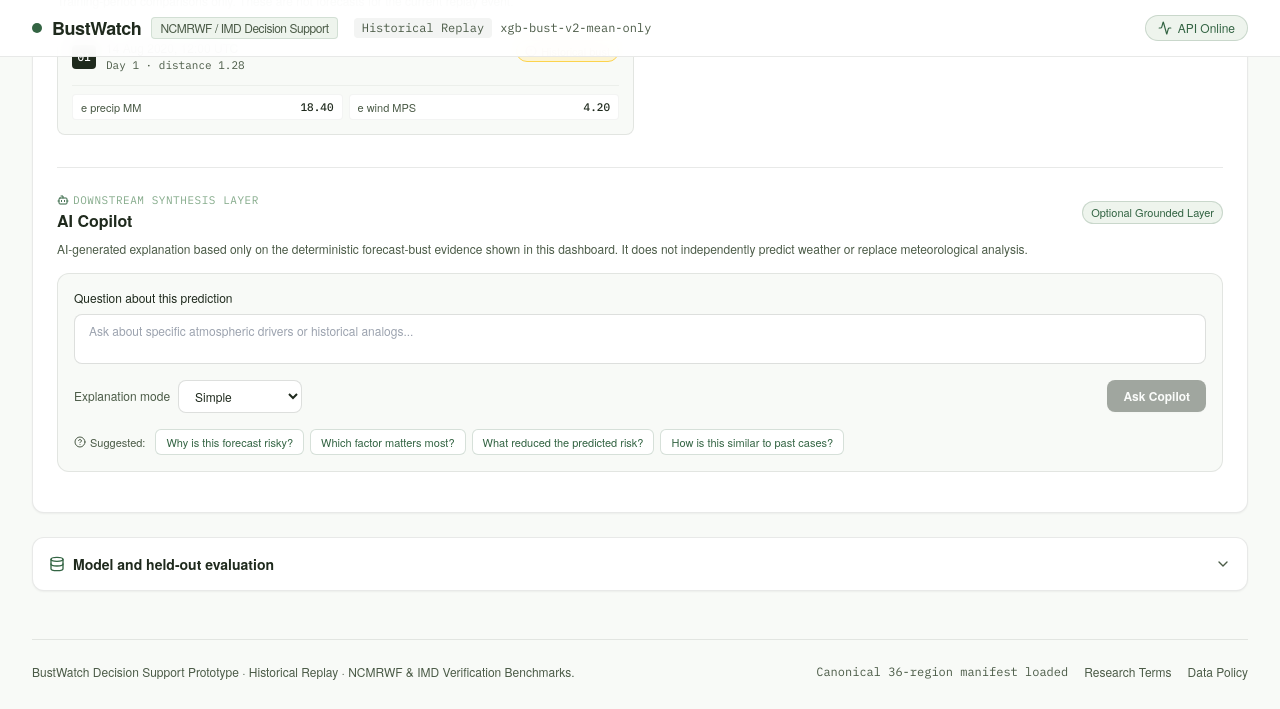
forecast dashboard › renders the full historical-replay evidence flow from canonical API contracts
The width and height of the screenshot is (1280, 709).
(page scrolled)
Check: the text "Historical Replay" is shown, box x1=354 y1=18 x2=492 y2=38
Check: the text "Historical bust" is shown, box x1=516 y1=40 x2=619 y2=62
Click the button "Model and held-out evaluation".
click(173, 564)  # box x1=33 y1=538 x2=1247 y2=590
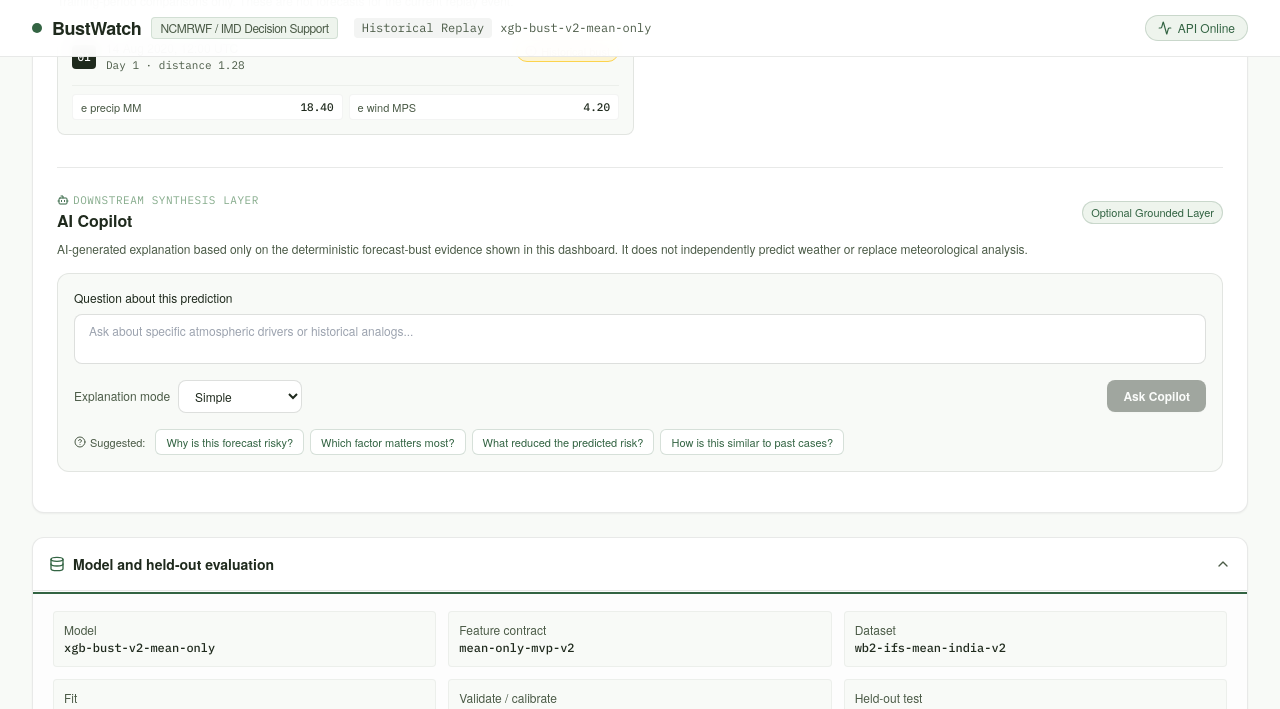
Check: the text "mean-only-mvp-v2" is shown, box x1=459 y1=640 x2=574 y2=655
